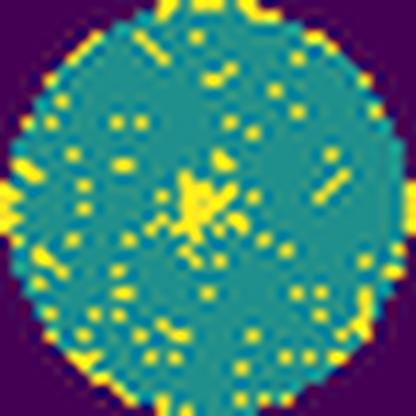Center: (164, 168, 247, 248)
